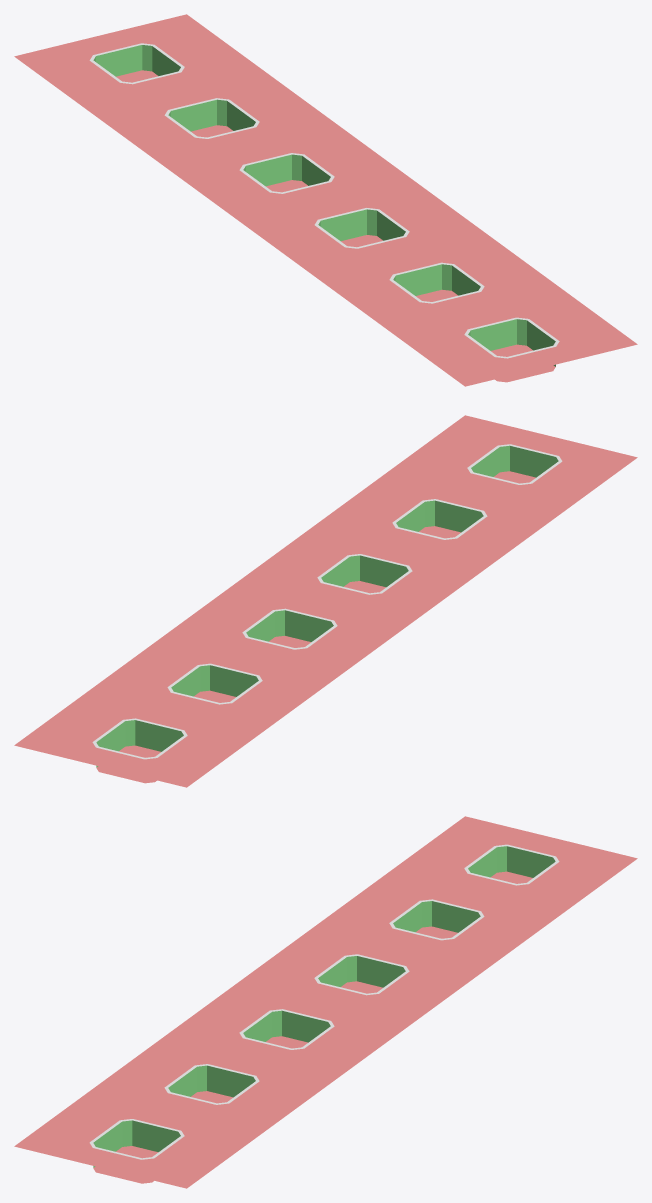
File: SSQ_dungeon_S__SSQ_Room02_Btm.gltf
3 renders of one model, top to bottom at view 1: azimuth 30°, elevation 25°; view 2: azimuth 150°, elevation 25°; view 3: azimuth 330°, elevation 25°, orthographic.
Parts seen in each view (by area): view 1: SSQ_Room02_Btm; view 2: SSQ_Room02_Btm; view 3: SSQ_Room02_Btm.
Boxes of the visible parts, x1,y1,x2,y2 form: SSQ_Room02_Btm: [14, 14, 637, 386]; SSQ_Room02_Btm: [14, 415, 637, 787]; SSQ_Room02_Btm: [14, 816, 637, 1188].
Bounding box in the file's own units: 3.41 × 0.48 × 15.41.
